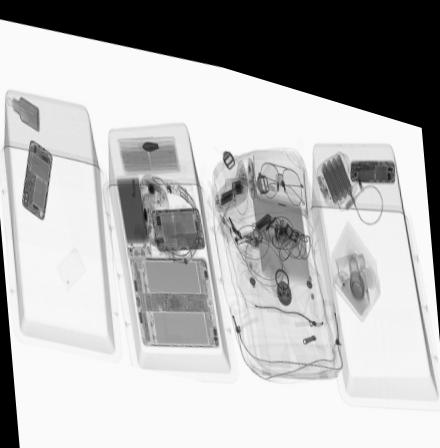Powerbank: (114, 167, 152, 249), (313, 131, 355, 186)
